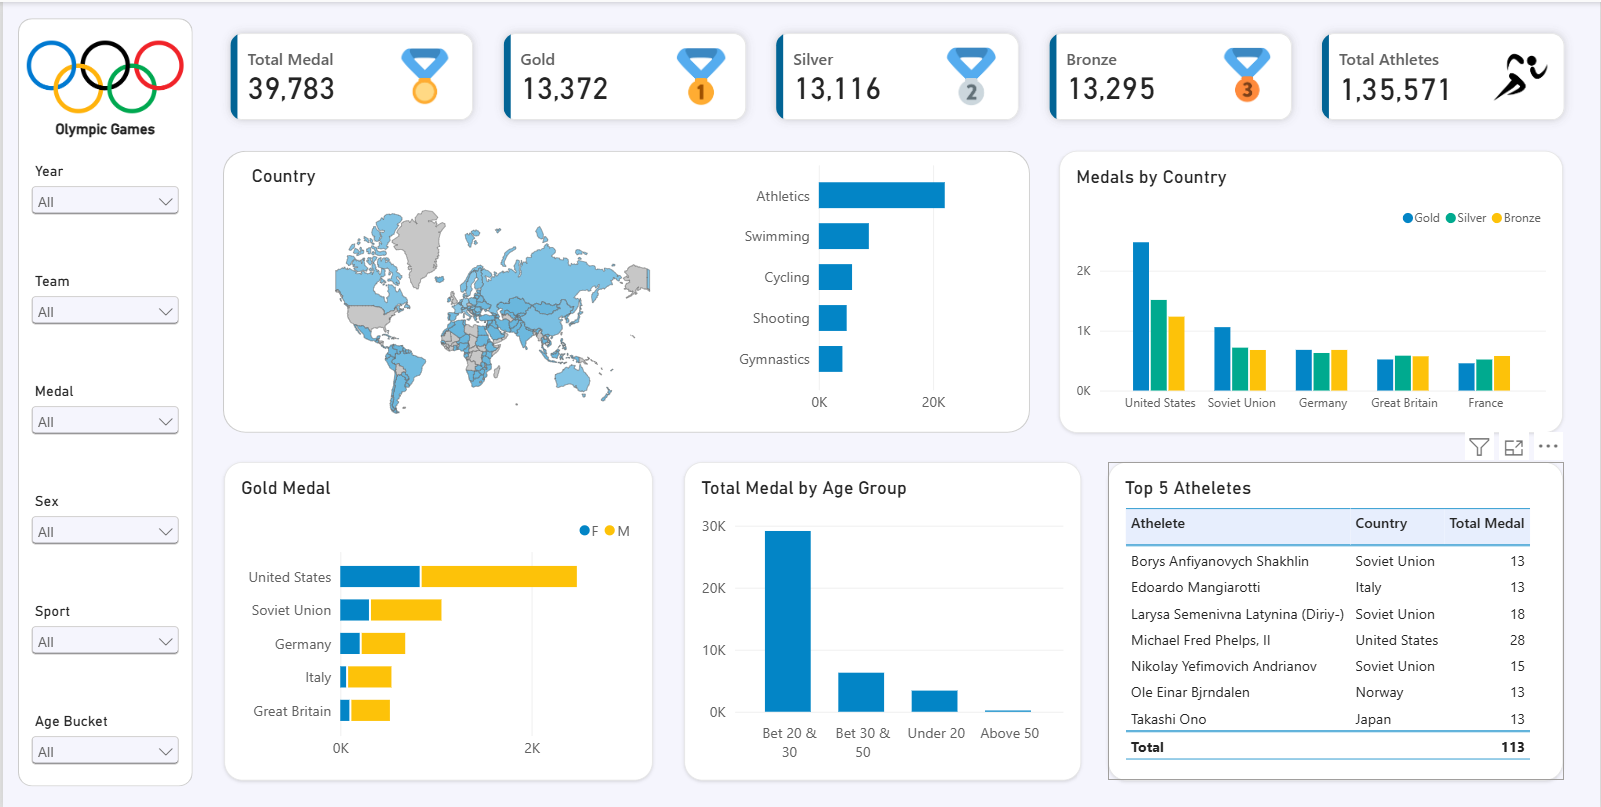

Layout of this report page (visuals, bound fields, positions):
{"tool":"powerbi","page":{"name":"Page 1","canvas":[1580,800],"ordinal":0},"visuals":[{"type":"shape","box":[217.7,147.2,798.5,279.1],"z":0},{"type":"cardVisual","fields":{"Data":["Measure_.Total Medal","Measure_.Gold","Measure_.Silver","Measure_.Bronze","Measure_.Total Athletes"]},"box":[213.6,20.1,1344.9,109],"z":1000},{"type":"shapeMap","title":"Country","fields":{"Category":["athlete.Team"],"Value":["CountNonNull(athlete.Medal)"]},"box":[229.7,147.2,509,286.6],"z":2000},{"type":"barChart","fields":{"Category":["athlete.Sport"],"Y":["Count(athlete.Name)"]},"box":[705.8,139.7,298.5,286.6],"z":3000},{"type":"clusteredColumnChart","title":"Medals by Country","fields":{"Category":["athlete.Team"],"Y":["Measure_.Gold","Measure_.Silver","Measure_.Bronze"]},"box":[1044.6,147.2,498.5,279.1],"z":4000},{"type":"barChart","title":"Gold Medal","fields":{"Y":["Measure_.Gold"],"Category":["athlete.Team"],"Series":["athlete.Sex"]},"box":[219.2,455.6,423.9,314.9],"z":5000},{"type":"columnChart","title":"Total Medal by Age Group","fields":{"Category":["athlete.Age Bucket"],"Y":["Measure_.Total Medal"]},"box":[674.4,455.6,392.5,314.9],"z":6000},{"type":"tableEx","title":"Top 5 Atheletes","fields":{"Values":["athlete.Name","athlete.Team","athlete.Medal"]},"box":[1093.8,455.6,450.7,314.9],"z":7000},{"type":"shape","box":[14.8,15.8,172.9,760.1],"z":8000},{"type":"image","box":[23.6,19.9,155.5,109.5],"z":9000},{"type":"textbox","box":[23.6,114.5,155.5,27.4],"z":10000},{"type":"slicer","fields":{"Values":["athlete.Year"]},"box":[23.6,158,155.5,59.7],"z":11000},{"type":"slicer","fields":{"Values":["athlete.Team"]},"box":[23.6,266.9,155.5,59.7],"z":12000},{"type":"slicer","fields":{"Values":["athlete.Medal"]},"box":[23.6,375.8,155.5,59.7],"z":13000},{"type":"slicer","fields":{"Values":["athlete.Sex"]},"box":[23.6,484.7,155.5,59.7],"z":14000},{"type":"slicer","fields":{"Values":["athlete.Sport"]},"box":[23.6,593.6,155.5,59.7],"z":15000},{"type":"slicer","fields":{"Values":["athlete.Age Bucket"]},"box":[23.6,702.5,155.5,59.7],"z":16000}]}

Visuals, with their boxes in screenshot pixels (x1, y1, x2, y2), scaled from the page's 1580x800 canvas onto the 1601x807 screenshot:
shape: pyautogui.locateOnScreen(221, 148, 1030, 430)
cardVisual - Measure_.Total Medal x Measure_.Gold: pyautogui.locateOnScreen(216, 20, 1579, 130)
"Country" shapeMap: pyautogui.locateOnScreen(233, 148, 749, 438)
barChart - athlete.Sport x Count(athlete.Name): pyautogui.locateOnScreen(715, 141, 1018, 430)
"Medals by Country" clusteredColumnChart: pyautogui.locateOnScreen(1058, 148, 1564, 430)
"Gold Medal" barChart: pyautogui.locateOnScreen(222, 460, 652, 777)
"Total Medal by Age Group" columnChart: pyautogui.locateOnScreen(683, 460, 1081, 777)
"Top 5 Atheletes" tableEx: pyautogui.locateOnScreen(1108, 460, 1565, 777)
shape: pyautogui.locateOnScreen(15, 16, 190, 783)
image: pyautogui.locateOnScreen(24, 20, 181, 131)
textbox: pyautogui.locateOnScreen(24, 116, 181, 143)
slicer - athlete.Year: pyautogui.locateOnScreen(24, 159, 181, 220)
slicer - athlete.Team: pyautogui.locateOnScreen(24, 269, 181, 329)
slicer - athlete.Medal: pyautogui.locateOnScreen(24, 379, 181, 439)
slicer - athlete.Sex: pyautogui.locateOnScreen(24, 489, 181, 549)
slicer - athlete.Sport: pyautogui.locateOnScreen(24, 599, 181, 659)
slicer - athlete.Age Bucket: pyautogui.locateOnScreen(24, 709, 181, 769)
